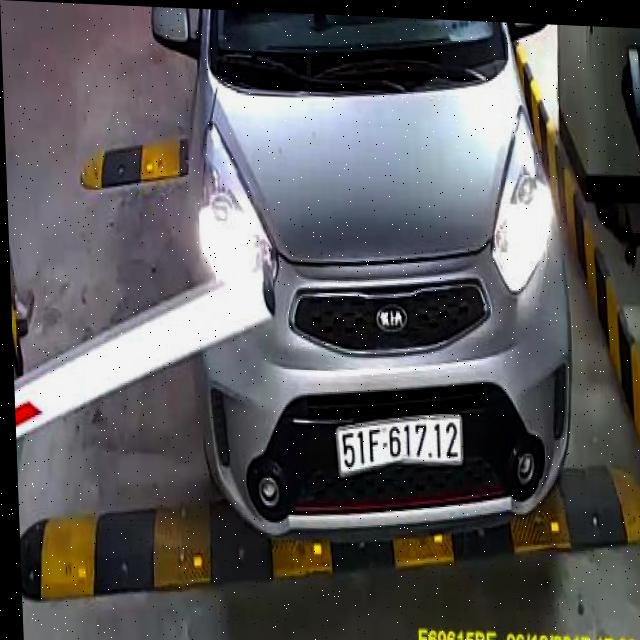car: (148, 7, 597, 560)
plate: (334, 411, 462, 478)
